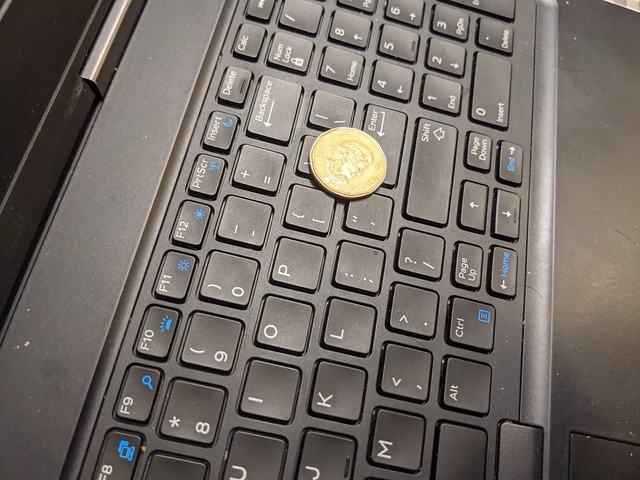loonie: (310, 118, 388, 211)
